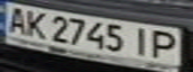2: (45, 12, 72, 44)
4: (84, 19, 109, 51)
5: (103, 20, 130, 54)
7: (66, 16, 87, 46)
A: (0, 3, 30, 35)
I: (127, 25, 157, 57)
K: (21, 8, 51, 38)
P: (145, 27, 187, 61)
